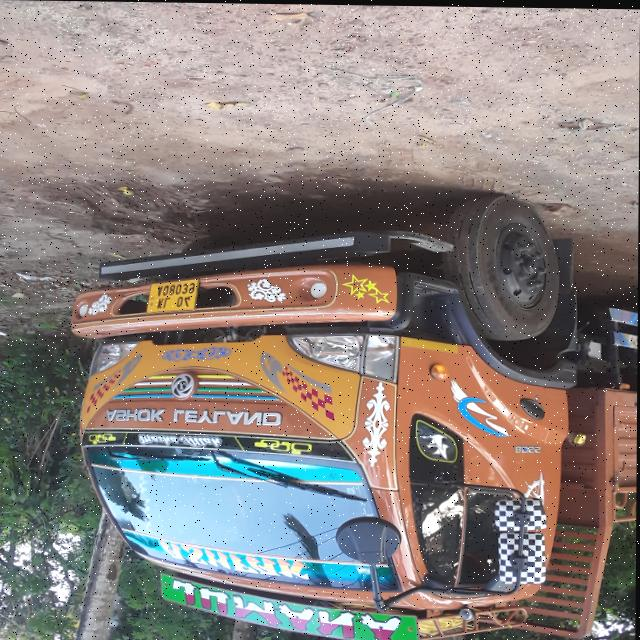plate: (145, 276, 202, 316)
